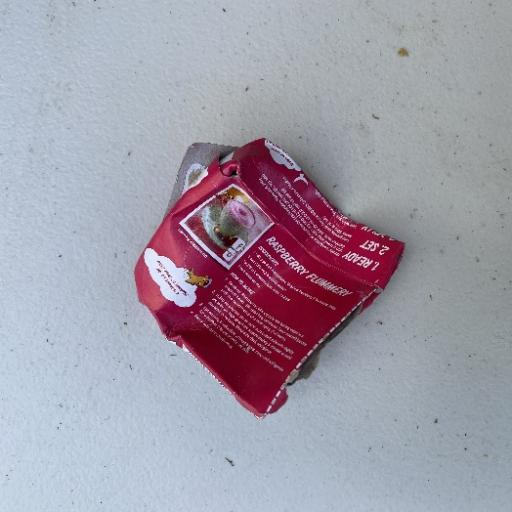Cardboard: (132, 136, 406, 420)
